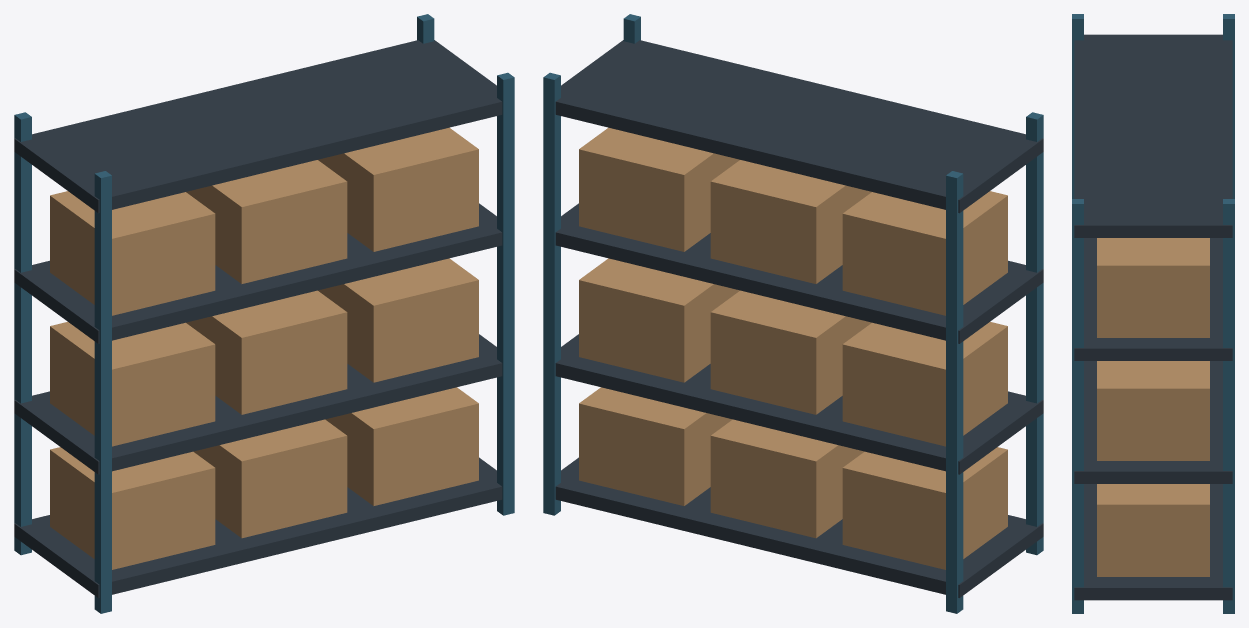
File: warehouse-shelf.glb
3 renders of one model, left to right at view 1: azimuth 30°, elevation 25°; view 2: azimuth 150°, elevation 25°; view 3: azimuth 270°, elevation 25°, orthographic. The views are drawn at different scales.
Visible parts, largest first — view 1: warehouse-shelf; view 2: warehouse-shelf; view 3: warehouse-shelf.
Boxes of the visible parts, x1=… form: warehouse-shelf: x1=14, y1=14, x2=514, y2=613; warehouse-shelf: x1=543, y1=14, x2=1043, y2=613; warehouse-shelf: x1=1072, y1=14, x2=1234, y2=613.
Size of the model in its own units: 3 by 3 by 1.08.
